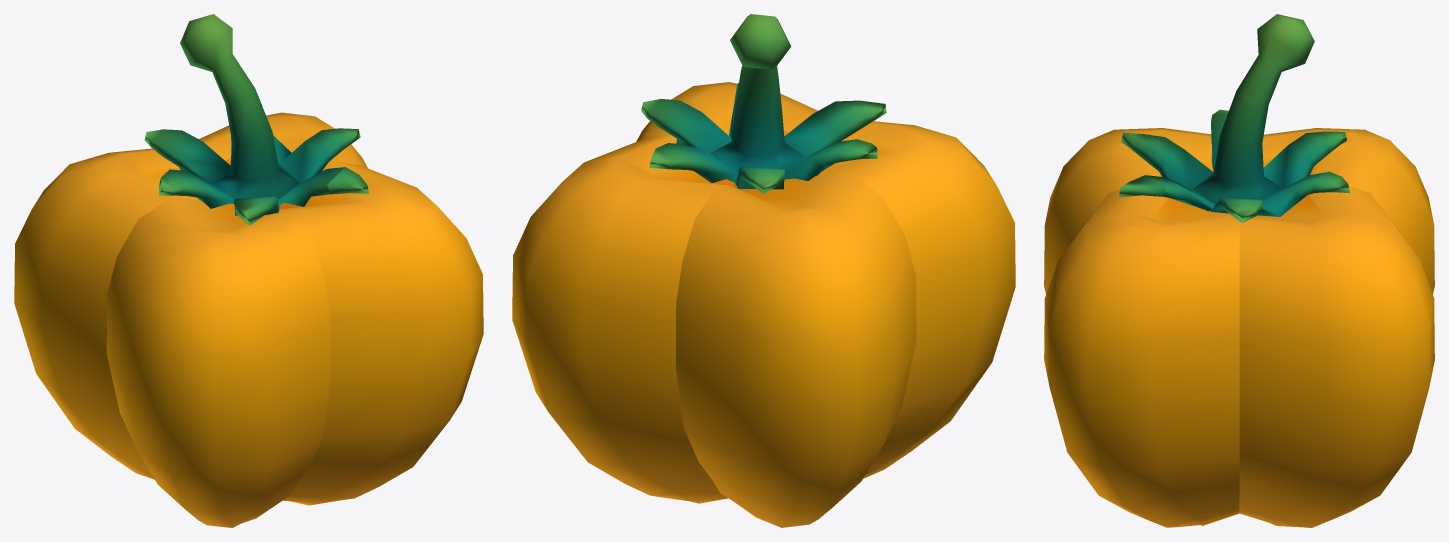
The model's file is pepper_003.fbx.
3 renders of one model, left to right at view 1: azimuth 30°, elevation 25°; view 2: azimuth 150°, elevation 25°; view 3: azimuth 270°, elevation 25°, orthographic. The views are drawn at different scales.
Visible parts, largest first — view 1: pepper_003; view 2: pepper_003; view 3: pepper_003.
Part boxes in pixels (x1=…): pepper_003: x1=14, y1=14, x2=483, y2=527; pepper_003: x1=512, y1=14, x2=1015, y2=527; pepper_003: x1=1044, y1=14, x2=1434, y2=527.
Size of the model in its own units: 9.1 by 9.1 by 12.2.
